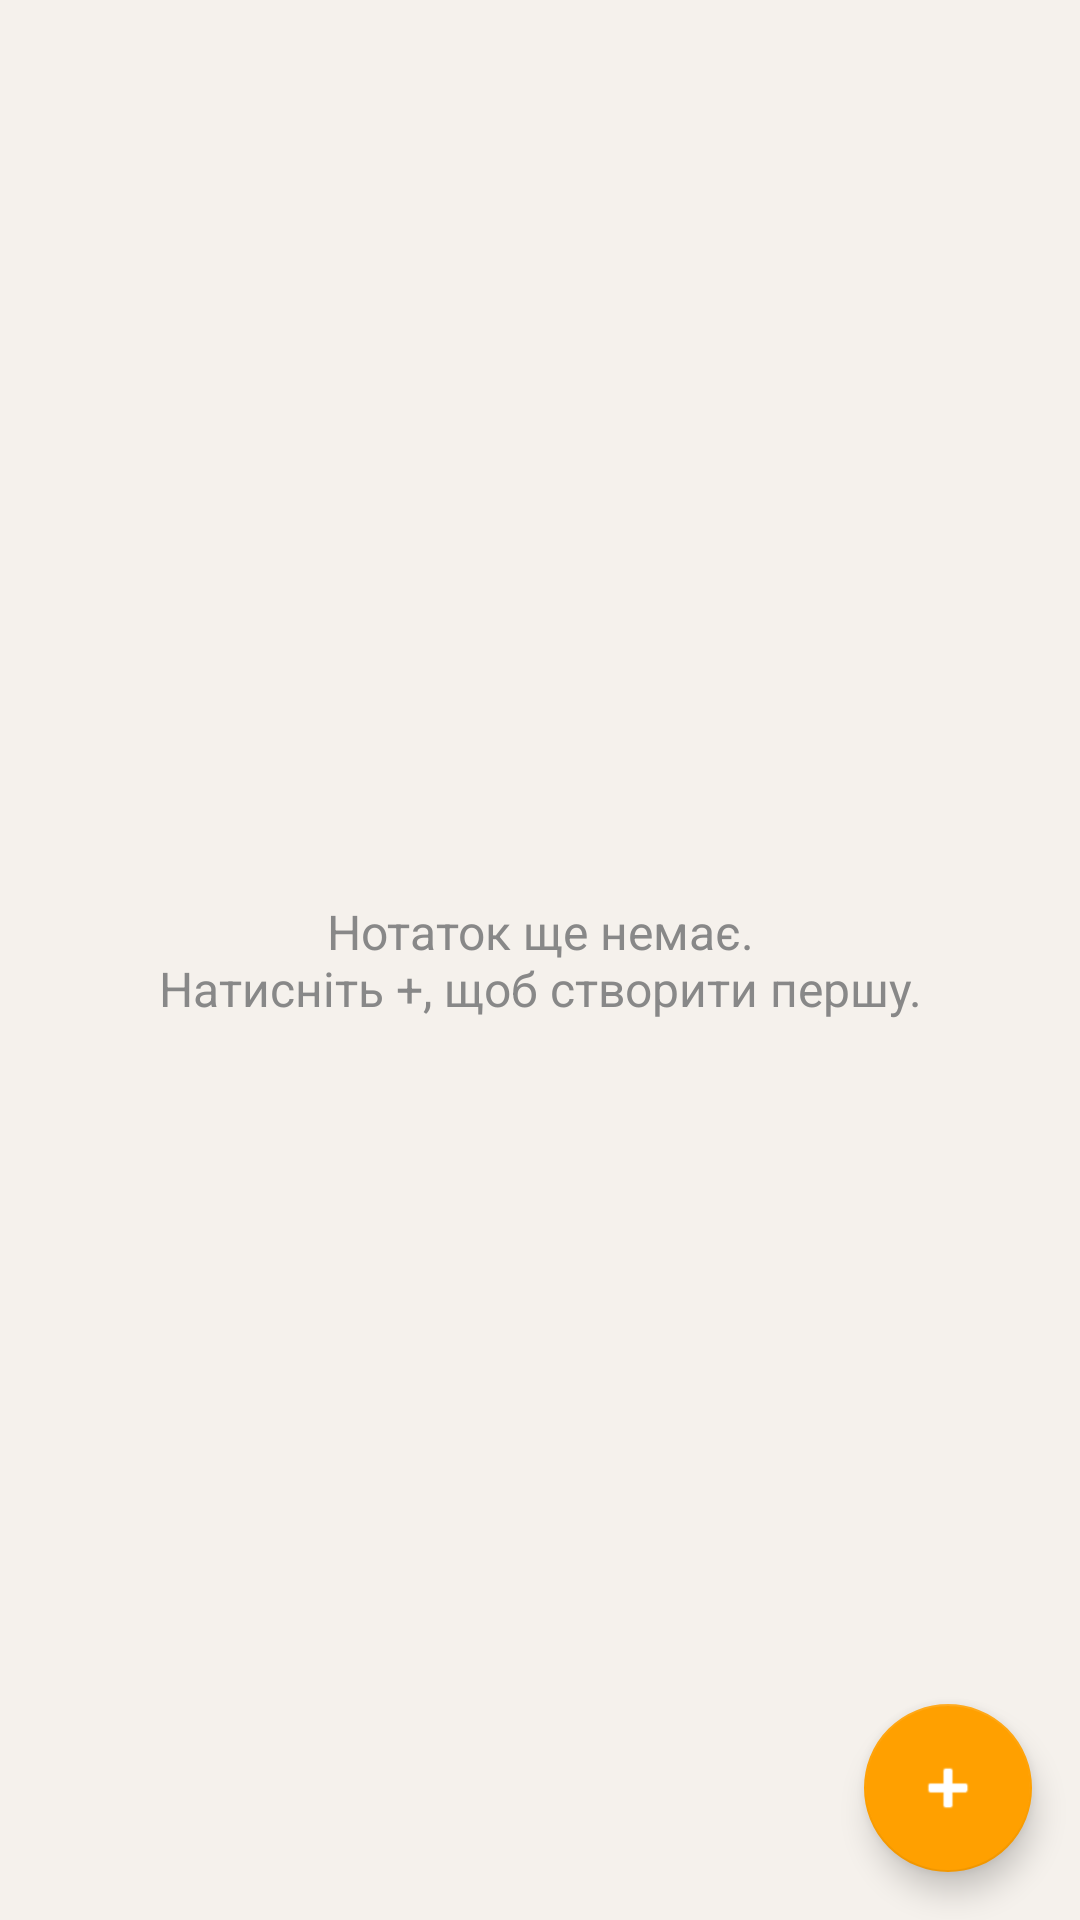

Named icons in this screenshot (1080 × 1920) and their bounding boxes, (x1, y1, x2, y2):
Нова нотатка: (864, 1704, 1032, 1872)
